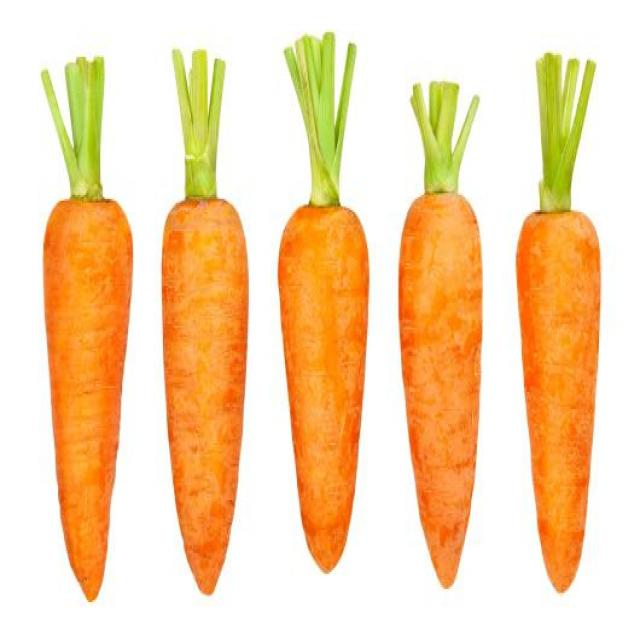Carrot: (31, 54, 129, 604), (274, 34, 368, 575), (392, 80, 485, 595), (160, 49, 241, 601), (519, 56, 600, 597)
